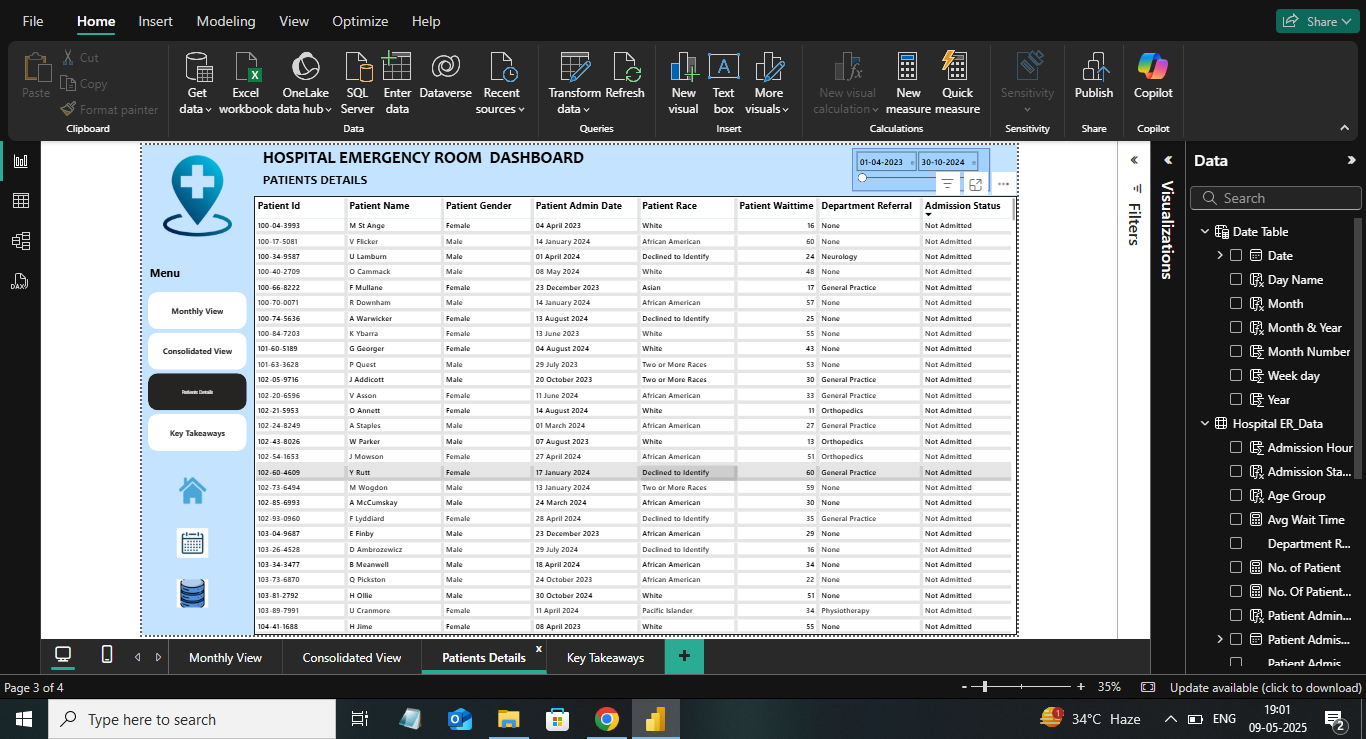

This screenshot's page, from the dashboard's own definition file:
{"tool":"powerbi","page":{"name":"Patients Details","canvas":[2500,1400],"ordinal":2},"visuals":[{"type":"shape","box":[0,0,320,1400],"z":1000},{"type":"shape","box":[320,0,2180,145],"z":2000},{"type":"slicer","fields":{"Values":["Date Table.Date"]},"box":[2028.6,8.6,394.3,122.9],"z":7000},{"type":"textbox","box":[340,0,942.9,71.4],"z":37000},{"type":"textbox","box":[340,71.4,314.3,74.3],"z":38000},{"type":"image","box":[37.1,22.9,242.9,245.7],"z":39000},{"type":"tableEx","fields":{"Values":["Hospital ER_Data.Patient Id","Hospital ER_Data.patient Full Name","Hospital ER_Data.Patient Gender","Hospital ER_Data.Patient Admin Date","Hospital ER_Data.Patient Race","Sum(Hospital ER_Data.Patient Waittime)","Hospital ER_Data.Department Referral","Hospital ER_Data.Admission Status"]},"box":[320,145,2180,1255],"z":39001},{"type":"pageNavigator","box":[17.1,420,282.9,454.3],"z":39002},{"type":"textbox","box":[17.1,337.1,122.9,62.9],"z":39003},{"type":"image","box":[77.1,925.7,134.3,122.9],"z":39004},{"type":"image","box":[94.3,1088.6,100,97.1],"z":39005},{"type":"image","box":[94.3,1234.3,100,94.3],"z":39006}]}

Visuals, with their boxes on the page's 2500x1400 design canvas (x1, y1, x2, y2). These are canvas units, not pixel positions in the 1366x739 screenshot, which may show the page scaled, cropped or inside an application window:
shape: rect(0, 0, 320, 1400)
shape: rect(320, 0, 2500, 145)
slicer - Date Table.Date: rect(2029, 9, 2423, 132)
textbox: rect(340, 0, 1283, 71)
textbox: rect(340, 71, 654, 146)
image: rect(37, 23, 280, 269)
tableEx - Hospital ER_Data.Patient Id x Hospital ER_Data.patient Full Name: rect(320, 145, 2500, 1400)
pageNavigator: rect(17, 420, 300, 874)
textbox: rect(17, 337, 140, 400)
image: rect(77, 926, 211, 1049)
image: rect(94, 1089, 194, 1186)
image: rect(94, 1234, 194, 1329)
